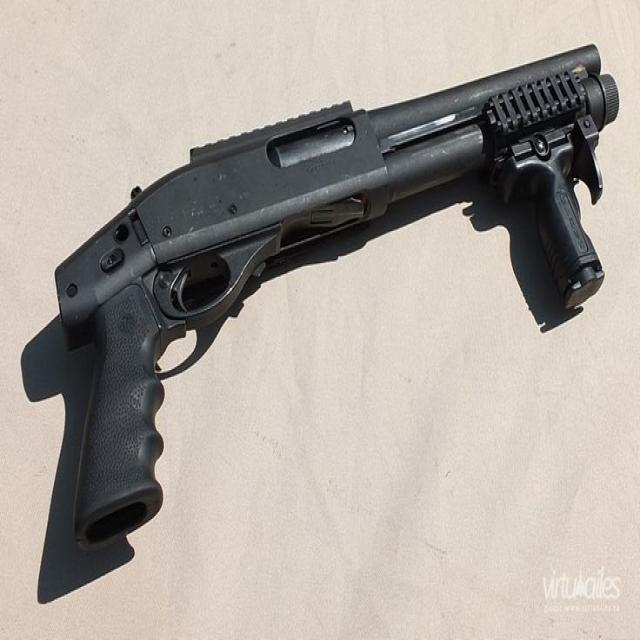shotgun: (56, 37, 623, 551)
